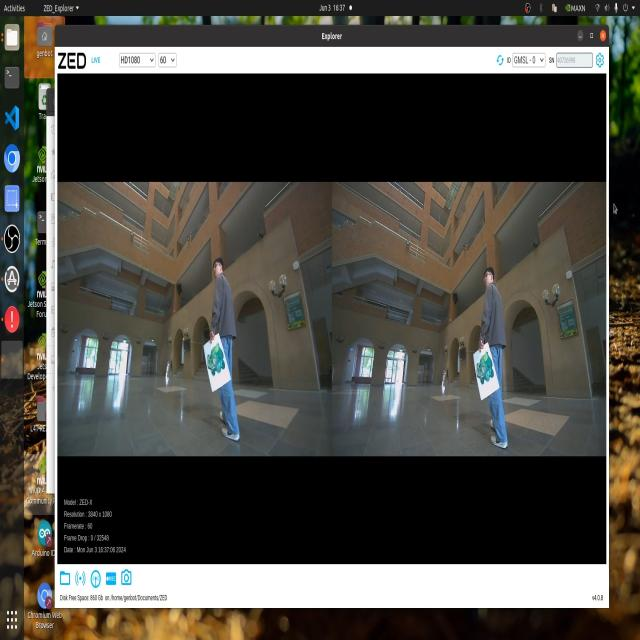green: (200, 344, 231, 379), (471, 358, 500, 387)
